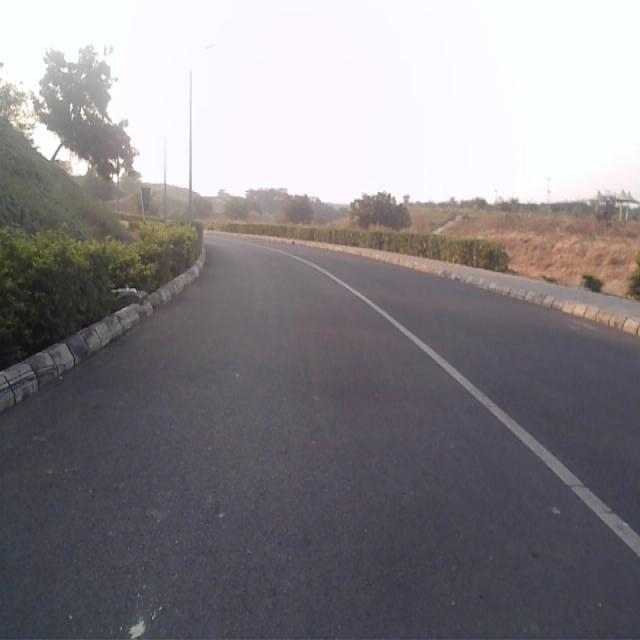lane: (0, 237, 640, 640)
